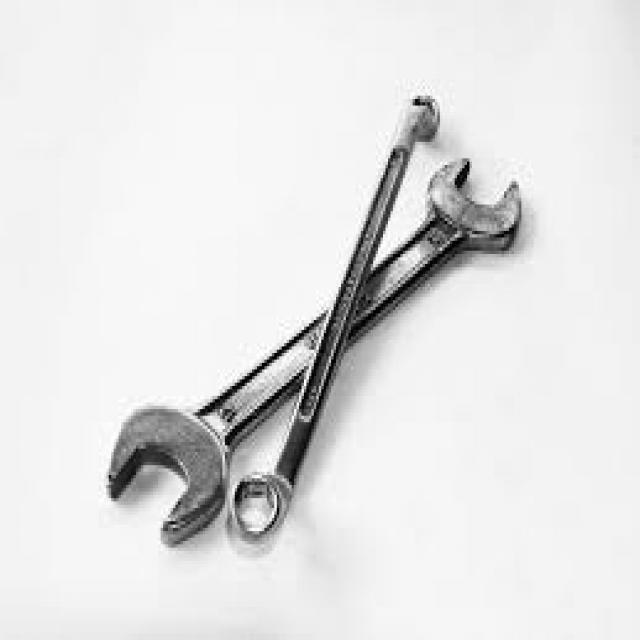wrench: (78, 158, 524, 541), (245, 85, 433, 561)
